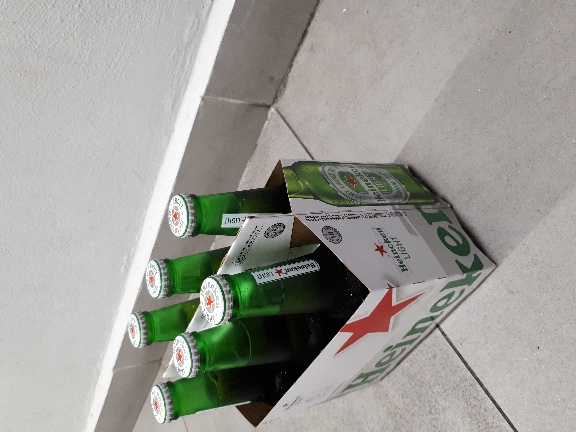HLB: (208, 114, 308, 149), (247, 158, 318, 199), (110, 136, 151, 175), (140, 193, 174, 235), (102, 272, 131, 312), (177, 186, 237, 205), (100, 185, 128, 222), (123, 238, 144, 280), (88, 220, 111, 254)
